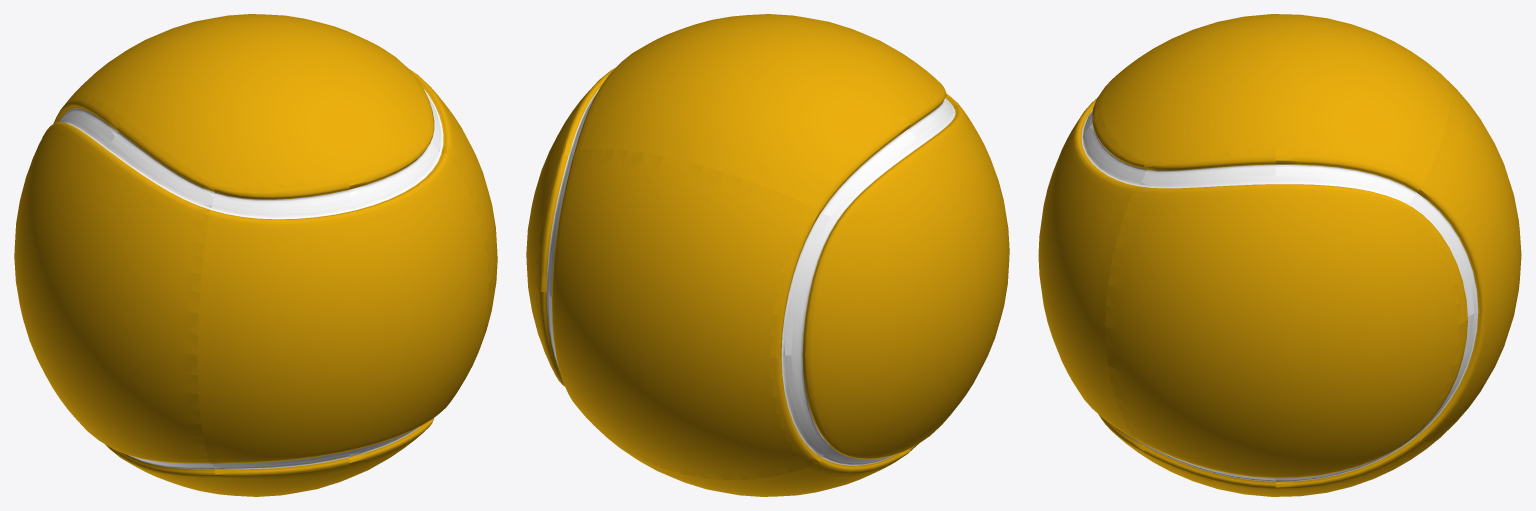
Rendered from tenbal.fbx.
The picture shows the model from 3 angles, left to right: view 1: azimuth 30°, elevation 25°; view 2: azimuth 150°, elevation 25°; view 3: azimuth 270°, elevation 25°; orthographic projection.
Parts seen in each view (by area): view 1: Box001; view 2: Box001; view 3: Box001.
Part boxes in pixels (x1,y1,x2,y2): Box001: [14, 14, 497, 496]; Box001: [526, 14, 1009, 496]; Box001: [1038, 14, 1521, 496].
Bounding box in the file's own units: 183 × 183 × 184.
